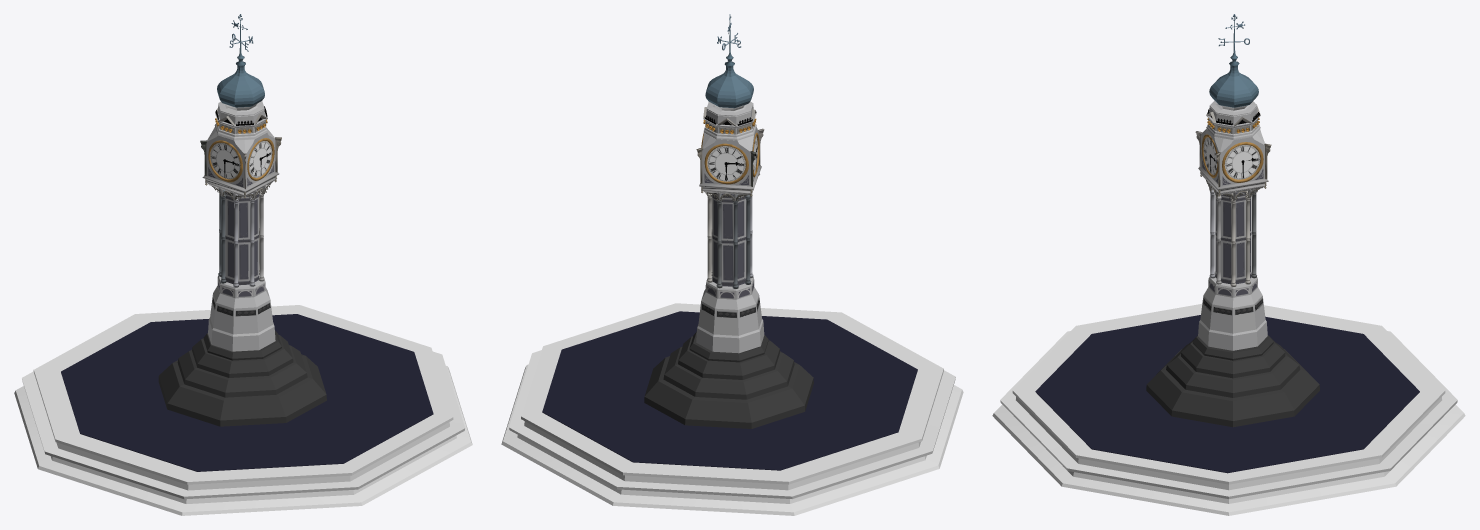
File: relogio.texturas.fbx
3 renders of one model, left to right at view 1: azimuth 30°, elevation 25°; view 2: azimuth 150°, elevation 25°; view 3: azimuth 270°, elevation 25°, orthographic.
Visible parts, largest first — view 1: Cilindro.057, Cilindro.058, Cilindro.001, Cilindro.002, Cilindro.003, Cilindro.005, Cubo, Cilindro.060, Cubo.001, Cilindro.053; view 2: Cilindro.057, Cilindro.058, Cilindro.001, Cilindro.002, Cilindro.003, Cilindro.005, Cilindro.062, Cubo, Cubo.001; view 3: Cilindro.057, Cilindro.058, Cilindro.001, Cilindro.002, Cilindro.003, Cilindro.005, Cubo, Cilindro.061, Cubo.001.
Boxes of the visible parts, bbox=[...] form: Cilindro.057: bbox=[61, 314, 433, 471]; Cilindro.058: bbox=[14, 305, 472, 515]; Cilindro.001: bbox=[158, 330, 326, 426]; Cilindro.002: bbox=[208, 274, 275, 351]; Cilindro.003: bbox=[214, 101, 267, 285]; Cilindro.005: bbox=[217, 65, 264, 107]; Cubo: bbox=[206, 127, 275, 188]; Cilindro.060: bbox=[210, 143, 240, 179]; Cubo.001: bbox=[202, 172, 279, 200]; Cilindro.053: bbox=[249, 141, 272, 177]; Cilindro.057: bbox=[542, 311, 917, 470]; Cilindro.058: bbox=[501, 303, 963, 515]; Cilindro.001: bbox=[644, 331, 813, 428]; Cilindro.002: bbox=[696, 276, 764, 353]; Cilindro.003: bbox=[703, 101, 756, 286]; Cilindro.005: bbox=[705, 65, 753, 108]; Cilindro.062: bbox=[707, 146, 745, 181]; Cubo: bbox=[702, 127, 758, 186]; Cubo.001: bbox=[699, 165, 761, 201]; Cilindro.057: bbox=[1035, 315, 1419, 473]; Cilindro.058: bbox=[992, 304, 1465, 515]; Cilindro.001: bbox=[1146, 335, 1319, 427]; Cilindro.002: bbox=[1198, 271, 1267, 350]; Cilindro.003: bbox=[1206, 100, 1260, 284]; Cilindro.005: bbox=[1209, 65, 1258, 107]; Cubo: bbox=[1201, 129, 1264, 186]; Cilindro.061: bbox=[1224, 145, 1260, 179]; Cubo.001: bbox=[1198, 167, 1268, 200].
Bounding box in the file's own units: 492 × 461 × 492.
